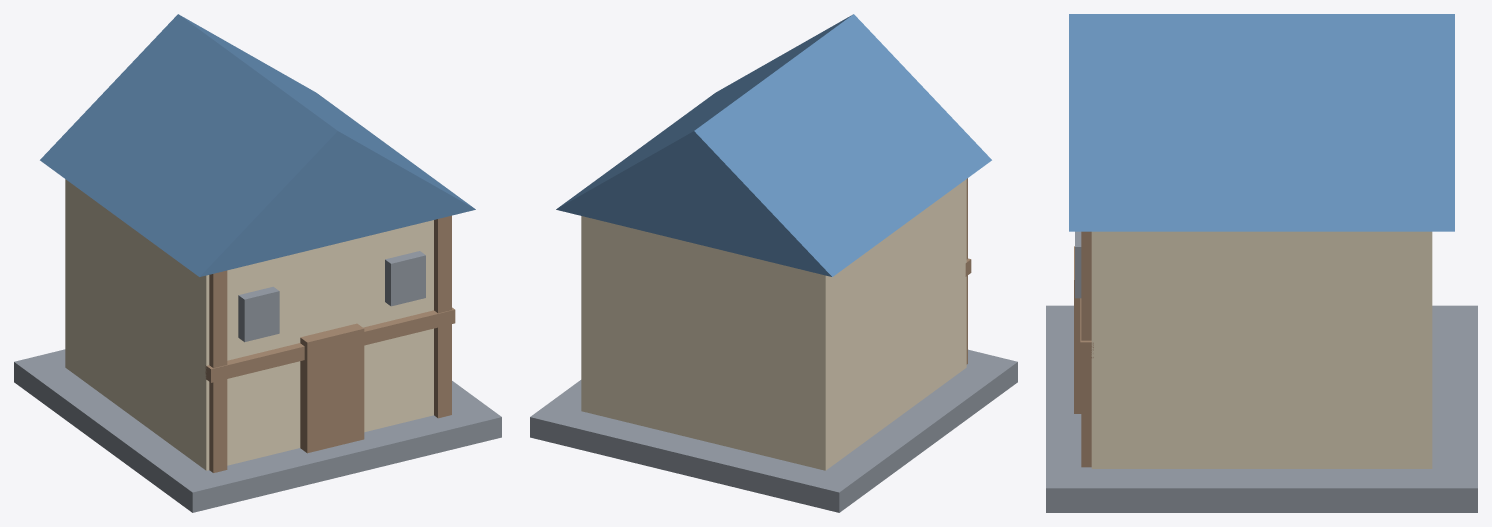
File: vivienda.glb
3 views of the same model, side by side, from view 1: azimuth 30°, elevation 25°; view 2: azimuth 150°, elevation 25°; view 3: azimuth 270°, elevation 25° (orthographic). The views are drawn at different scales.
Parts seen in each view (by area): view 1: world; view 2: world; view 3: world.
Part boxes in pixels (x1,y1,x2,y2): world: (14, 14, 501, 512); world: (530, 14, 1017, 512); world: (1046, 14, 1477, 512).
Bounding box in the file's own units: 3.8 × 3.96 × 3.8.
